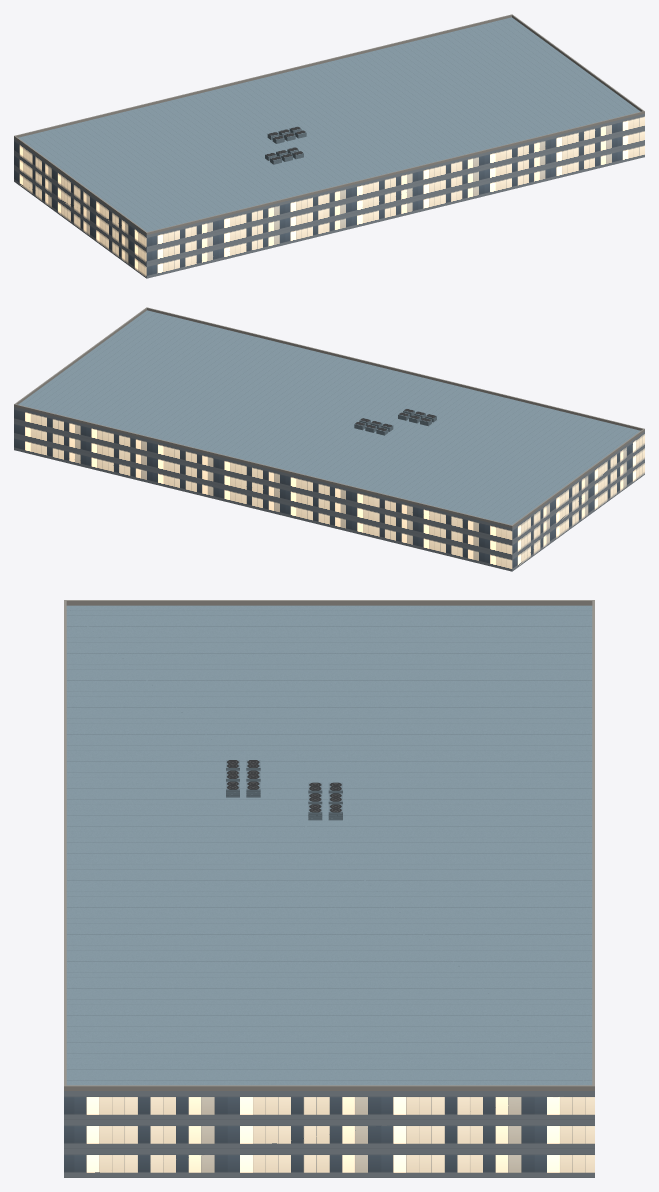
File: khsv_terminal_hall.glb
3 renders of one model, top to bottom at view 1: azimuth 30°, elevation 25°; view 2: azimuth 150°, elevation 25°; view 3: azimuth 270°, elevation 25°, orthographic. The views are drawn at different scales.
Visible parts, largest first — view 1: khsv_terminal_hall_roof, khsv_terminal_hall_glass_wall, khsv_terminal_hall_coping, khsv_terminal_hall_ac_side, khsv_terminal_hall_ac_top; view 2: khsv_terminal_hall_roof, khsv_terminal_hall_glass_wall, khsv_terminal_hall_coping, khsv_terminal_hall_ac_side, khsv_terminal_hall_ac_top; view 3: khsv_terminal_hall_roof, khsv_terminal_hall_glass_wall, khsv_terminal_hall_coping, khsv_terminal_hall_ac_top, khsv_terminal_hall_ac_side.
Boxes of the visible parts, left/top/right/bottom form: khsv_terminal_hall_roof: left=18, top=17, right=640, bottom=231; khsv_terminal_hall_glass_wall: left=14, top=113, right=644, bottom=278; khsv_terminal_hall_coping: left=14, top=14, right=644, bottom=234; khsv_terminal_hall_ac_side: left=265, top=128, right=306, bottom=164; khsv_terminal_hall_ac_top: left=265, top=126, right=306, bottom=160; khsv_terminal_hall_roof: left=18, top=310, right=640, bottom=524; khsv_terminal_hall_glass_wall: left=14, top=406, right=644, bottom=571; khsv_terminal_hall_coping: left=14, top=307, right=644, bottom=527; khsv_terminal_hall_ac_side: left=354, top=410, right=436, bottom=435; khsv_terminal_hall_ac_top: left=354, top=408, right=436, bottom=431; khsv_terminal_hall_roof: left=66, top=605, right=592, bottom=1085; khsv_terminal_hall_glass_wall: left=64, top=1091, right=594, bottom=1177; khsv_terminal_hall_coping: left=64, top=600, right=594, bottom=1090; khsv_terminal_hall_ac_top: left=226, top=760, right=342, bottom=812; khsv_terminal_hall_ac_side: left=226, top=768, right=342, bottom=820.
Bounding box in the file's own units: 180 × 16.4 × 83.
Materials: 5 (5 with a texture image).
